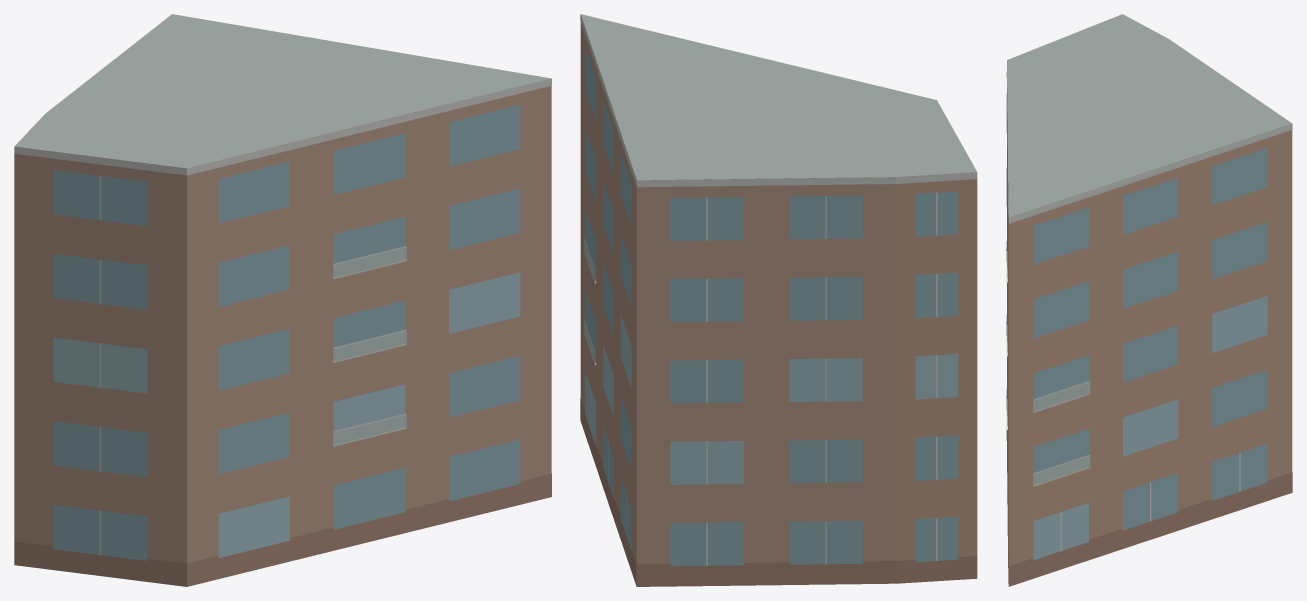
File: survey-upis-32874914.glb
The picture shows the model from 3 angles, left to right: view 1: azimuth 30°, elevation 25°; view 2: azimuth 150°, elevation 25°; view 3: azimuth 270°, elevation 25°; orthographic projection. The views are drawn at different scales.
Visible parts, largest first — view 1: survey-upis-32874914.tmp; view 2: survey-upis-32874914.tmp; view 3: survey-upis-32874914.tmp.
Part boxes in pixels (x1,y1,x2,y2): survey-upis-32874914.tmp: [14, 14, 551, 586]; survey-upis-32874914.tmp: [580, 14, 977, 586]; survey-upis-32874914.tmp: [1006, 14, 1292, 586].
Size of the model in its own units: 16.8 by 14.2 by 9.98.
